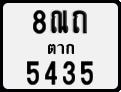letters: (51, 10, 69, 33), (73, 9, 88, 34), (44, 60, 58, 85), (62, 60, 76, 85), (80, 60, 94, 85), (26, 60, 39, 86), (33, 10, 47, 34)
province: (47, 43, 75, 55)
